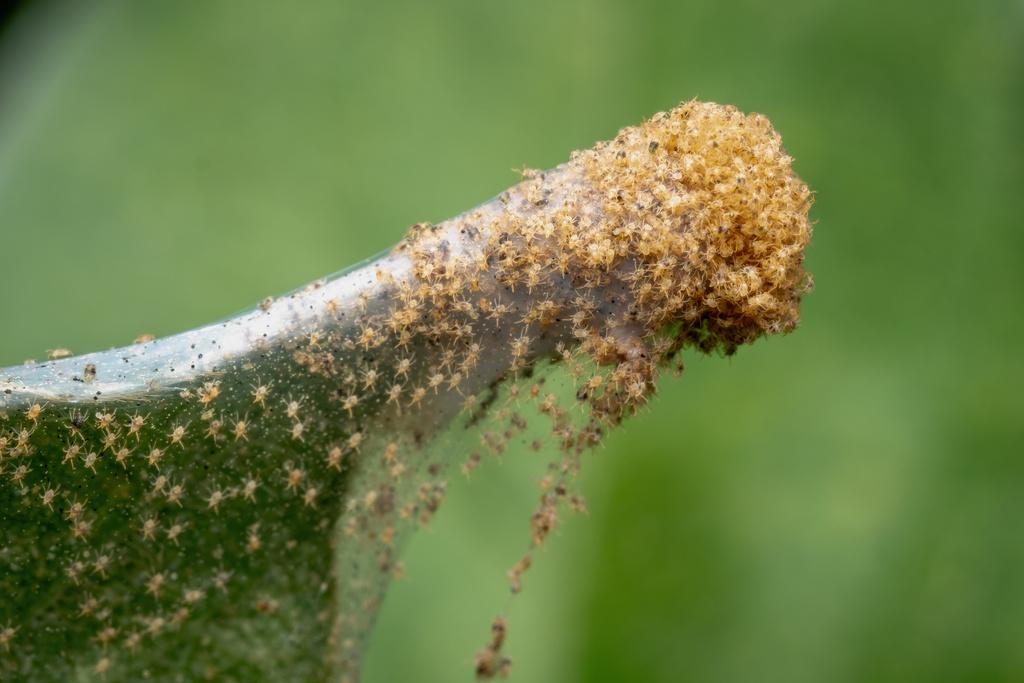tiny_pests: (579, 59, 841, 378), (368, 195, 484, 383), (58, 402, 144, 469)
